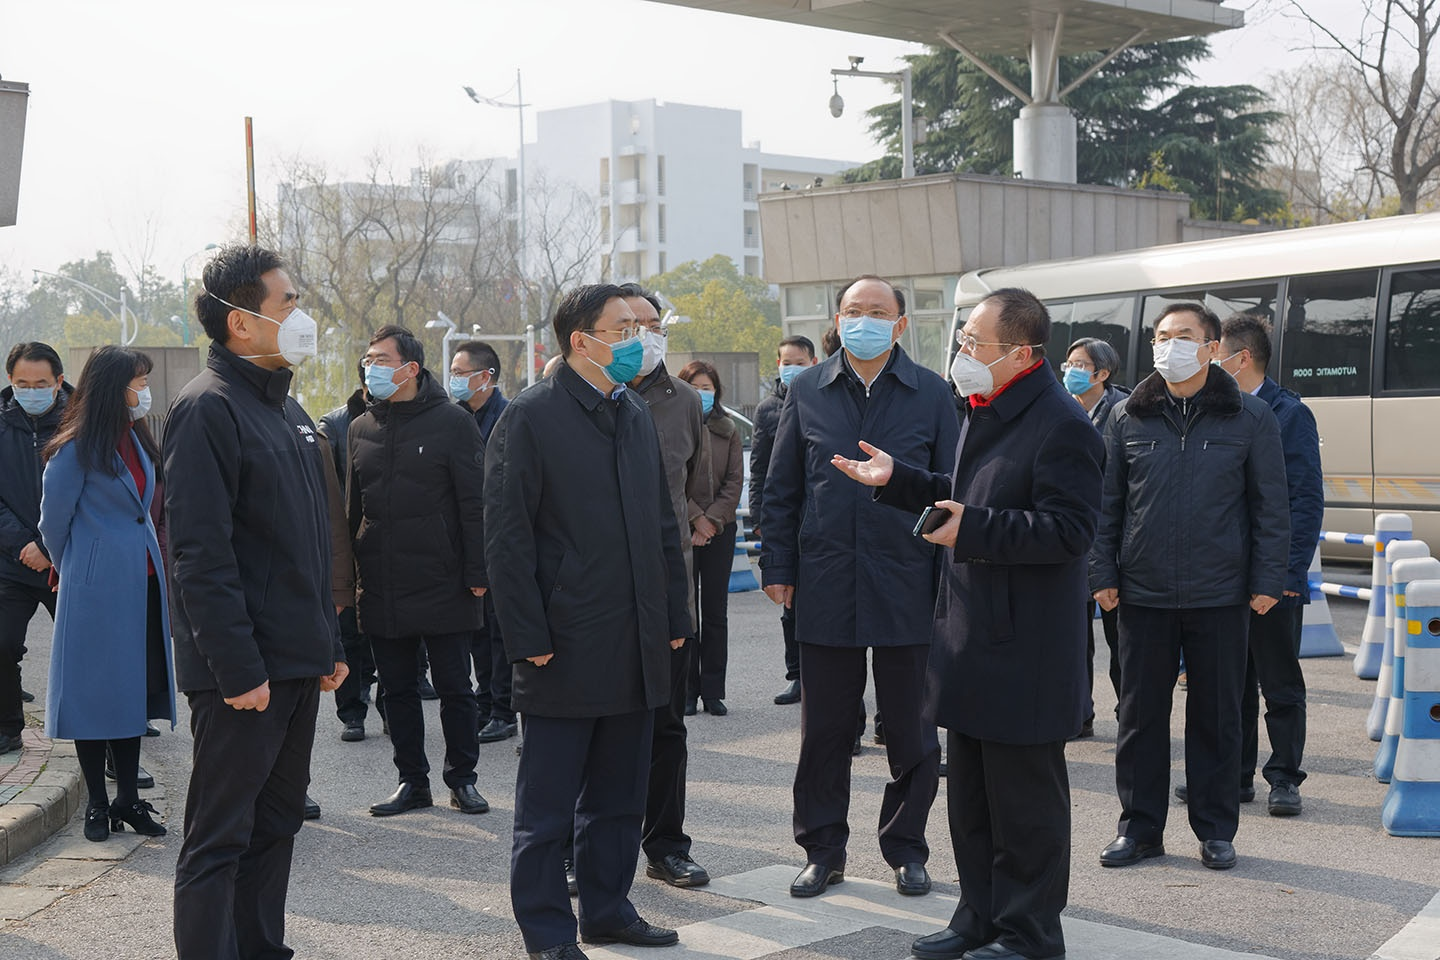correctlyWear: (224, 282, 322, 373), (944, 320, 1036, 401), (568, 315, 643, 385), (1150, 322, 1220, 387), (834, 299, 909, 358), (358, 346, 424, 400), (619, 311, 667, 377), (9, 365, 66, 417), (1060, 342, 1109, 400), (446, 352, 493, 406), (115, 370, 154, 423), (778, 352, 820, 393), (1210, 345, 1252, 385), (690, 379, 712, 417)
